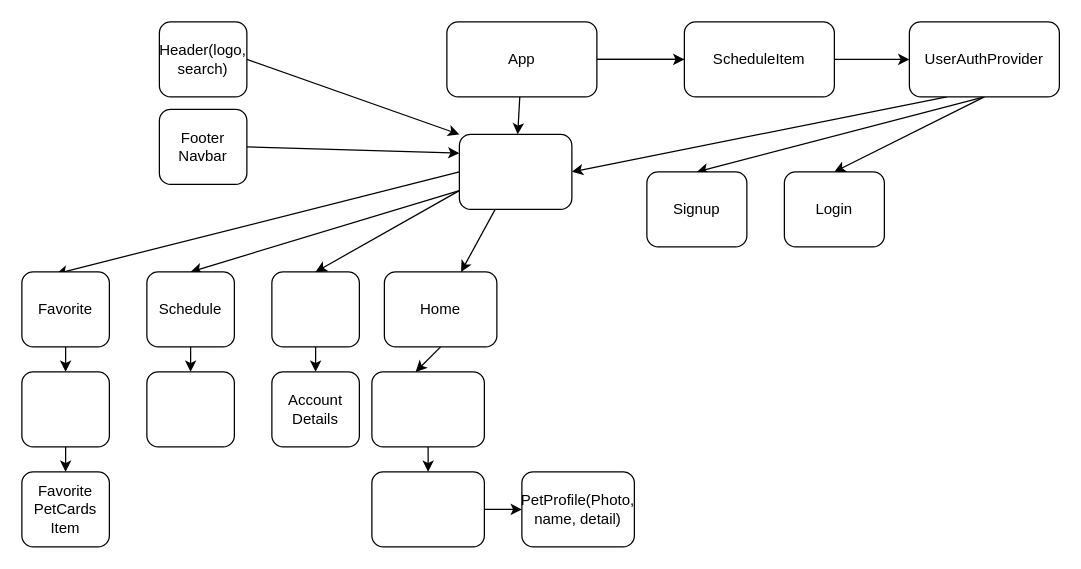
Some shapes in this 1081 by 569 pixel diagram are drawn without their labels. Each missing label, with the centre of its shape:
"Available Times(button)" goes at point 190,409.
"Favorite PetCards" goes at point 65,409.
"Main" goes at point 515,171.
"PetCardItem (photo, name, heart, button)" goes at point 427,509.
"PetCards" goes at point 427,409.
"Profile" goes at point 315,309.
